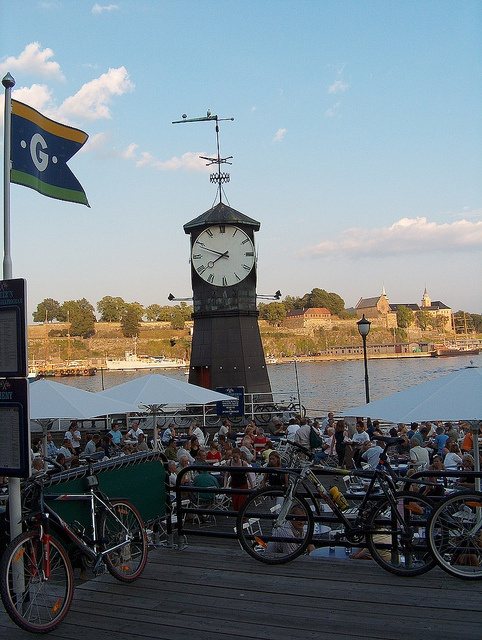non-vehicle: (236, 431, 436, 577), (3, 447, 151, 630), (428, 490, 482, 581), (261, 403, 307, 422), (128, 407, 168, 428), (173, 408, 220, 425)
